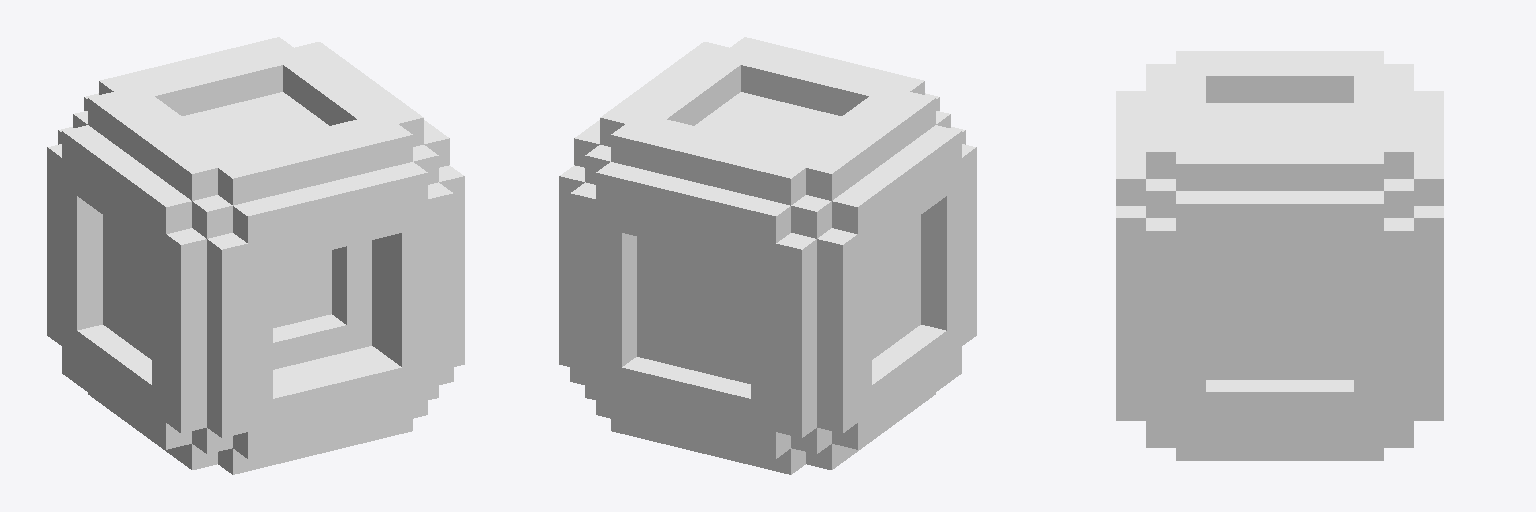
Rendered from Block04.obj.
The picture shows the model from 3 angles: view 1: azimuth 30°, elevation 25°; view 2: azimuth 150°, elevation 25°; view 3: azimuth 270°, elevation 25°; orthographic projection.
Visible parts, largest first — view 1: object 1; view 2: object 1; view 3: object 1.
Boxes of the visible parts, x1,y1,x2,y2 form: object 1: [47, 37, 464, 474]; object 1: [559, 37, 976, 474]; object 1: [1116, 51, 1443, 460].
Size of the model in its own units: 1.1 by 1.1 by 1.1.